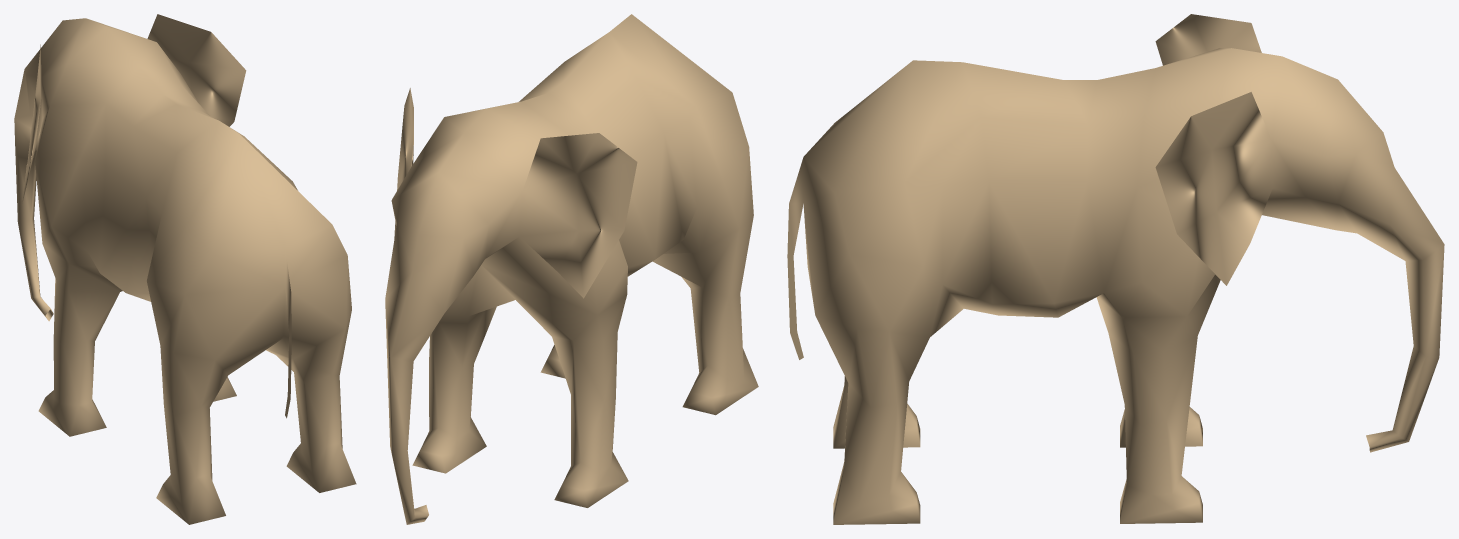
File: elephant.obj
The picture shows the model from 3 angles, left to right: view 1: azimuth 30°, elevation 25°; view 2: azimuth 150°, elevation 25°; view 3: azimuth 270°, elevation 25°; orthographic projection. The views are drawn at different scales.
Visible parts, largest first — view 1: Default; view 2: Default; view 3: Default.
Boxes of the visible parts, box(x1,y1,x2,y2) form: Default: box(14, 14, 356, 524); Default: box(385, 14, 758, 524); Default: box(787, 14, 1444, 524).
Bounding box in the file's own units: 0.6206 × 0.9883 × 1.37.
Materials: 1 (1 with a texture image).
